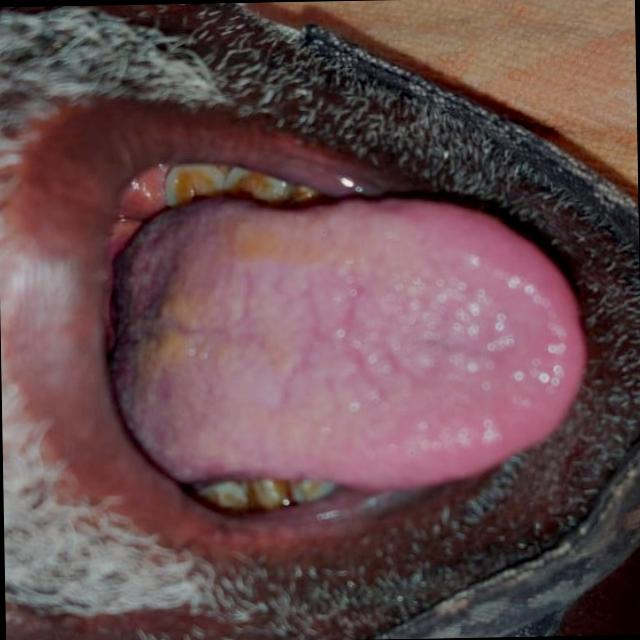Cancer: (95, 156, 225, 394)
